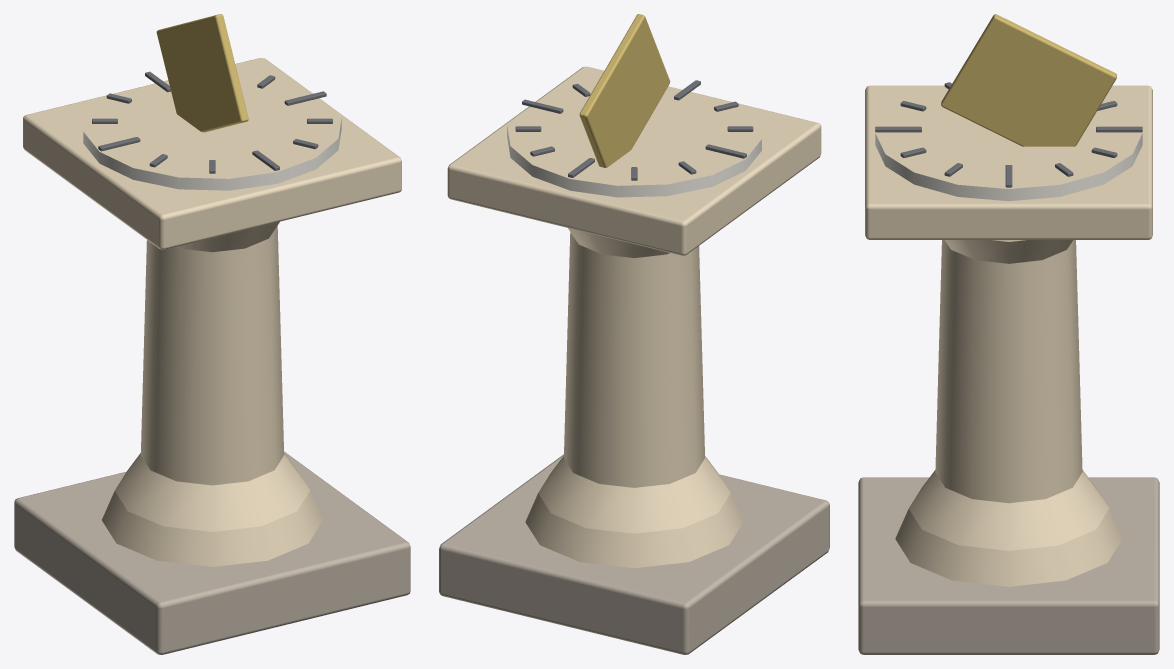
Rendered from courtyard-sundial-2988e4e8.glb.
3 views of the same model, side by side, from view 1: azimuth 30°, elevation 25°; view 2: azimuth 150°, elevation 25°; view 3: azimuth 270°, elevation 25° (orthographic). The views are drawn at different scales.
Parts seen in each view (by area): view 1: courtyard-sundial; view 2: courtyard-sundial; view 3: courtyard-sundial.
Part boxes in pixels (x1,y1,x2,y2): courtyard-sundial: (14,14,410,654); courtyard-sundial: (439,14,829,654); courtyard-sundial: (858,14,1159,654).
Bounding box in the file's own units: 0.9 × 1.91 × 0.9.
